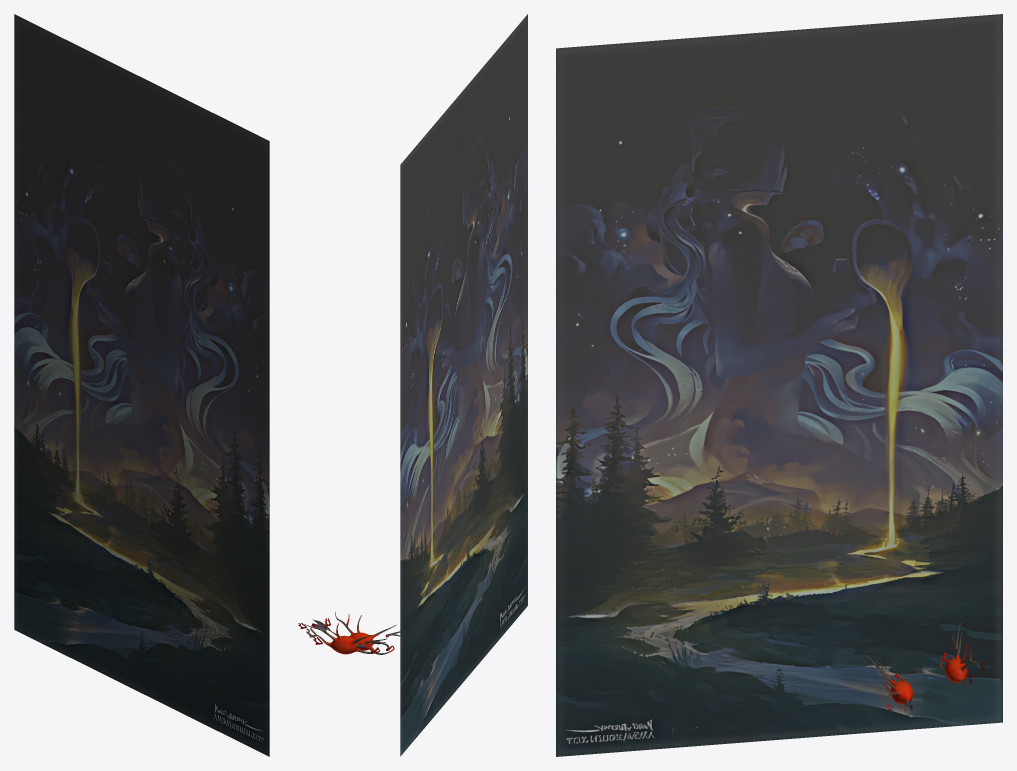
File: star.glb
3 renders of one model, left to right at view 1: azimuth 30°, elevation 25°; view 2: azimuth 150°, elevation 25°; view 3: azimuth 270°, elevation 25°, orthographic. The views are drawn at different scales.
Parts seen in each view (by area): view 1: tripo_node_7edb319d-6894-4f22-9182-f8ea17583769; view 2: tripo_node_7edb319d-6894-4f22-9182-f8ea17583769; view 3: tripo_node_7edb319d-6894-4f22-9182-f8ea17583769.
Boxes of the visible parts, x1,y1,x2,y2 form: tripo_node_7edb319d-6894-4f22-9182-f8ea17583769: (14,14,269,756); tripo_node_7edb319d-6894-4f22-9182-f8ea17583769: (298,14,527,756); tripo_node_7edb319d-6894-4f22-9182-f8ea17583769: (556,14,1002,756).
Size of the model in its own units: 0.2264 by 0.9995 by 0.5711.
1 material, 1 textured.
